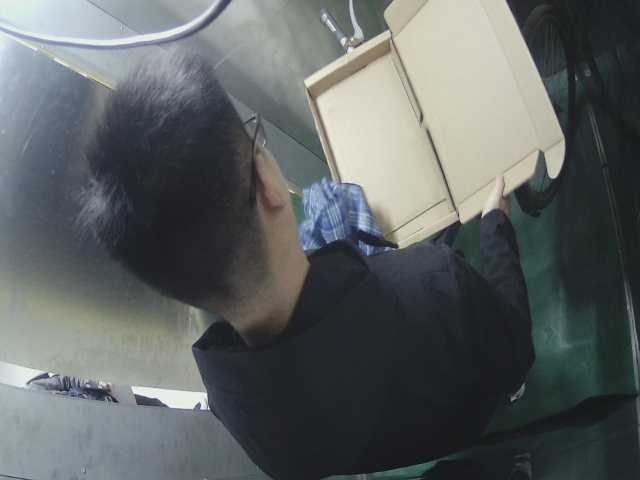bicycle: (307, 5, 606, 190)
person: (76, 57, 556, 451)
